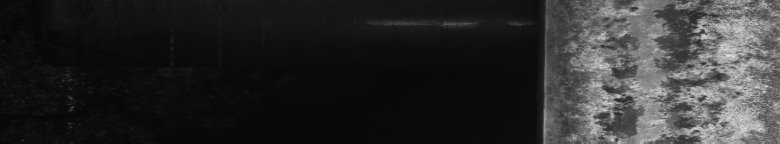kb: (556, 4, 776, 136)
